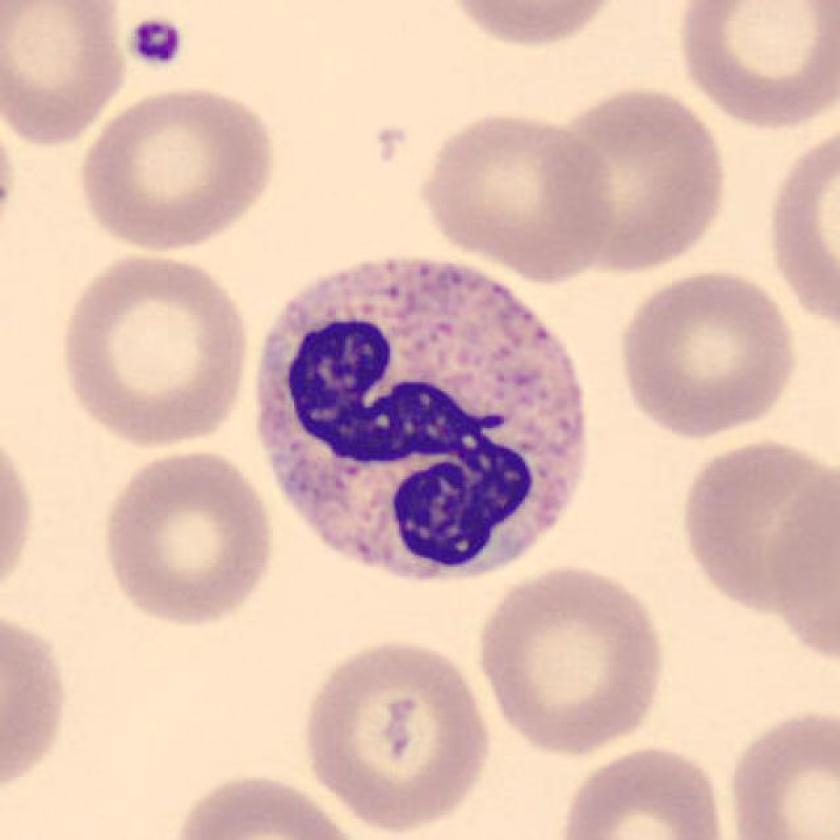neutrophil: (257, 258, 584, 581)
